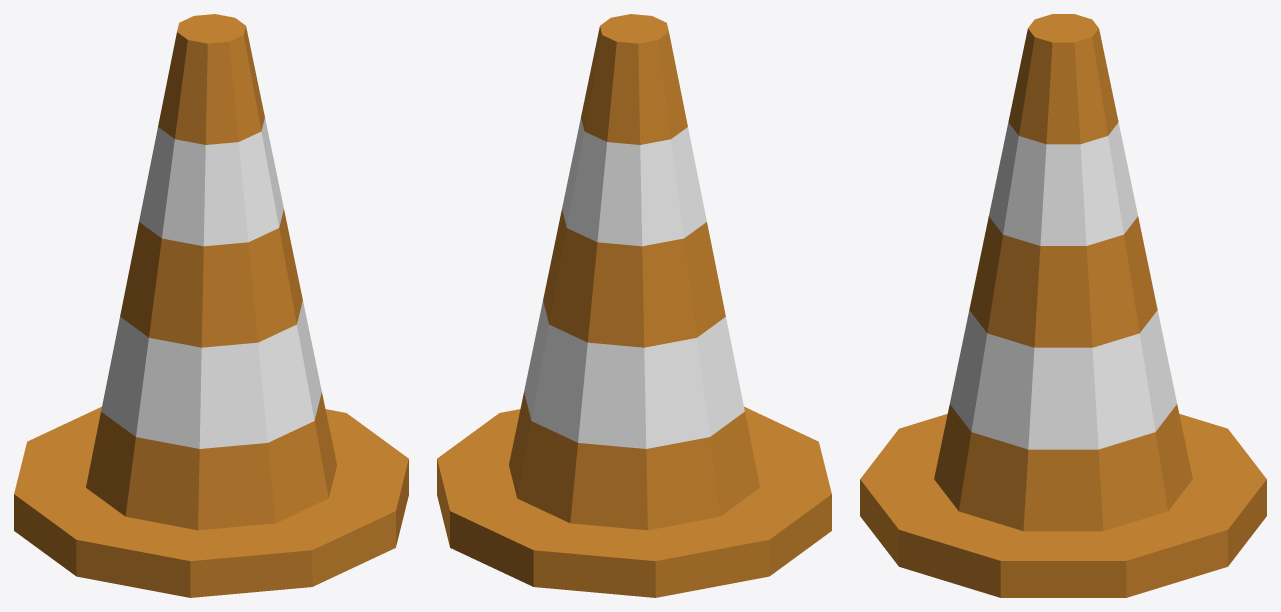
The picture shows the model from 3 angles, left to right: view 1: azimuth 30°, elevation 25°; view 2: azimuth 150°, elevation 25°; view 3: azimuth 270°, elevation 25°; orthographic projection.
Parts seen in each view (by area): view 1: Cylinder; view 2: Cylinder; view 3: Cylinder.
Boxes of the visible parts, x1,y1,x2,y2 form: Cylinder: [14, 14, 408, 597]; Cylinder: [437, 14, 831, 597]; Cylinder: [860, 14, 1266, 597].
Size of the model in its own units: 44.8 by 62.37 by 47.11.
